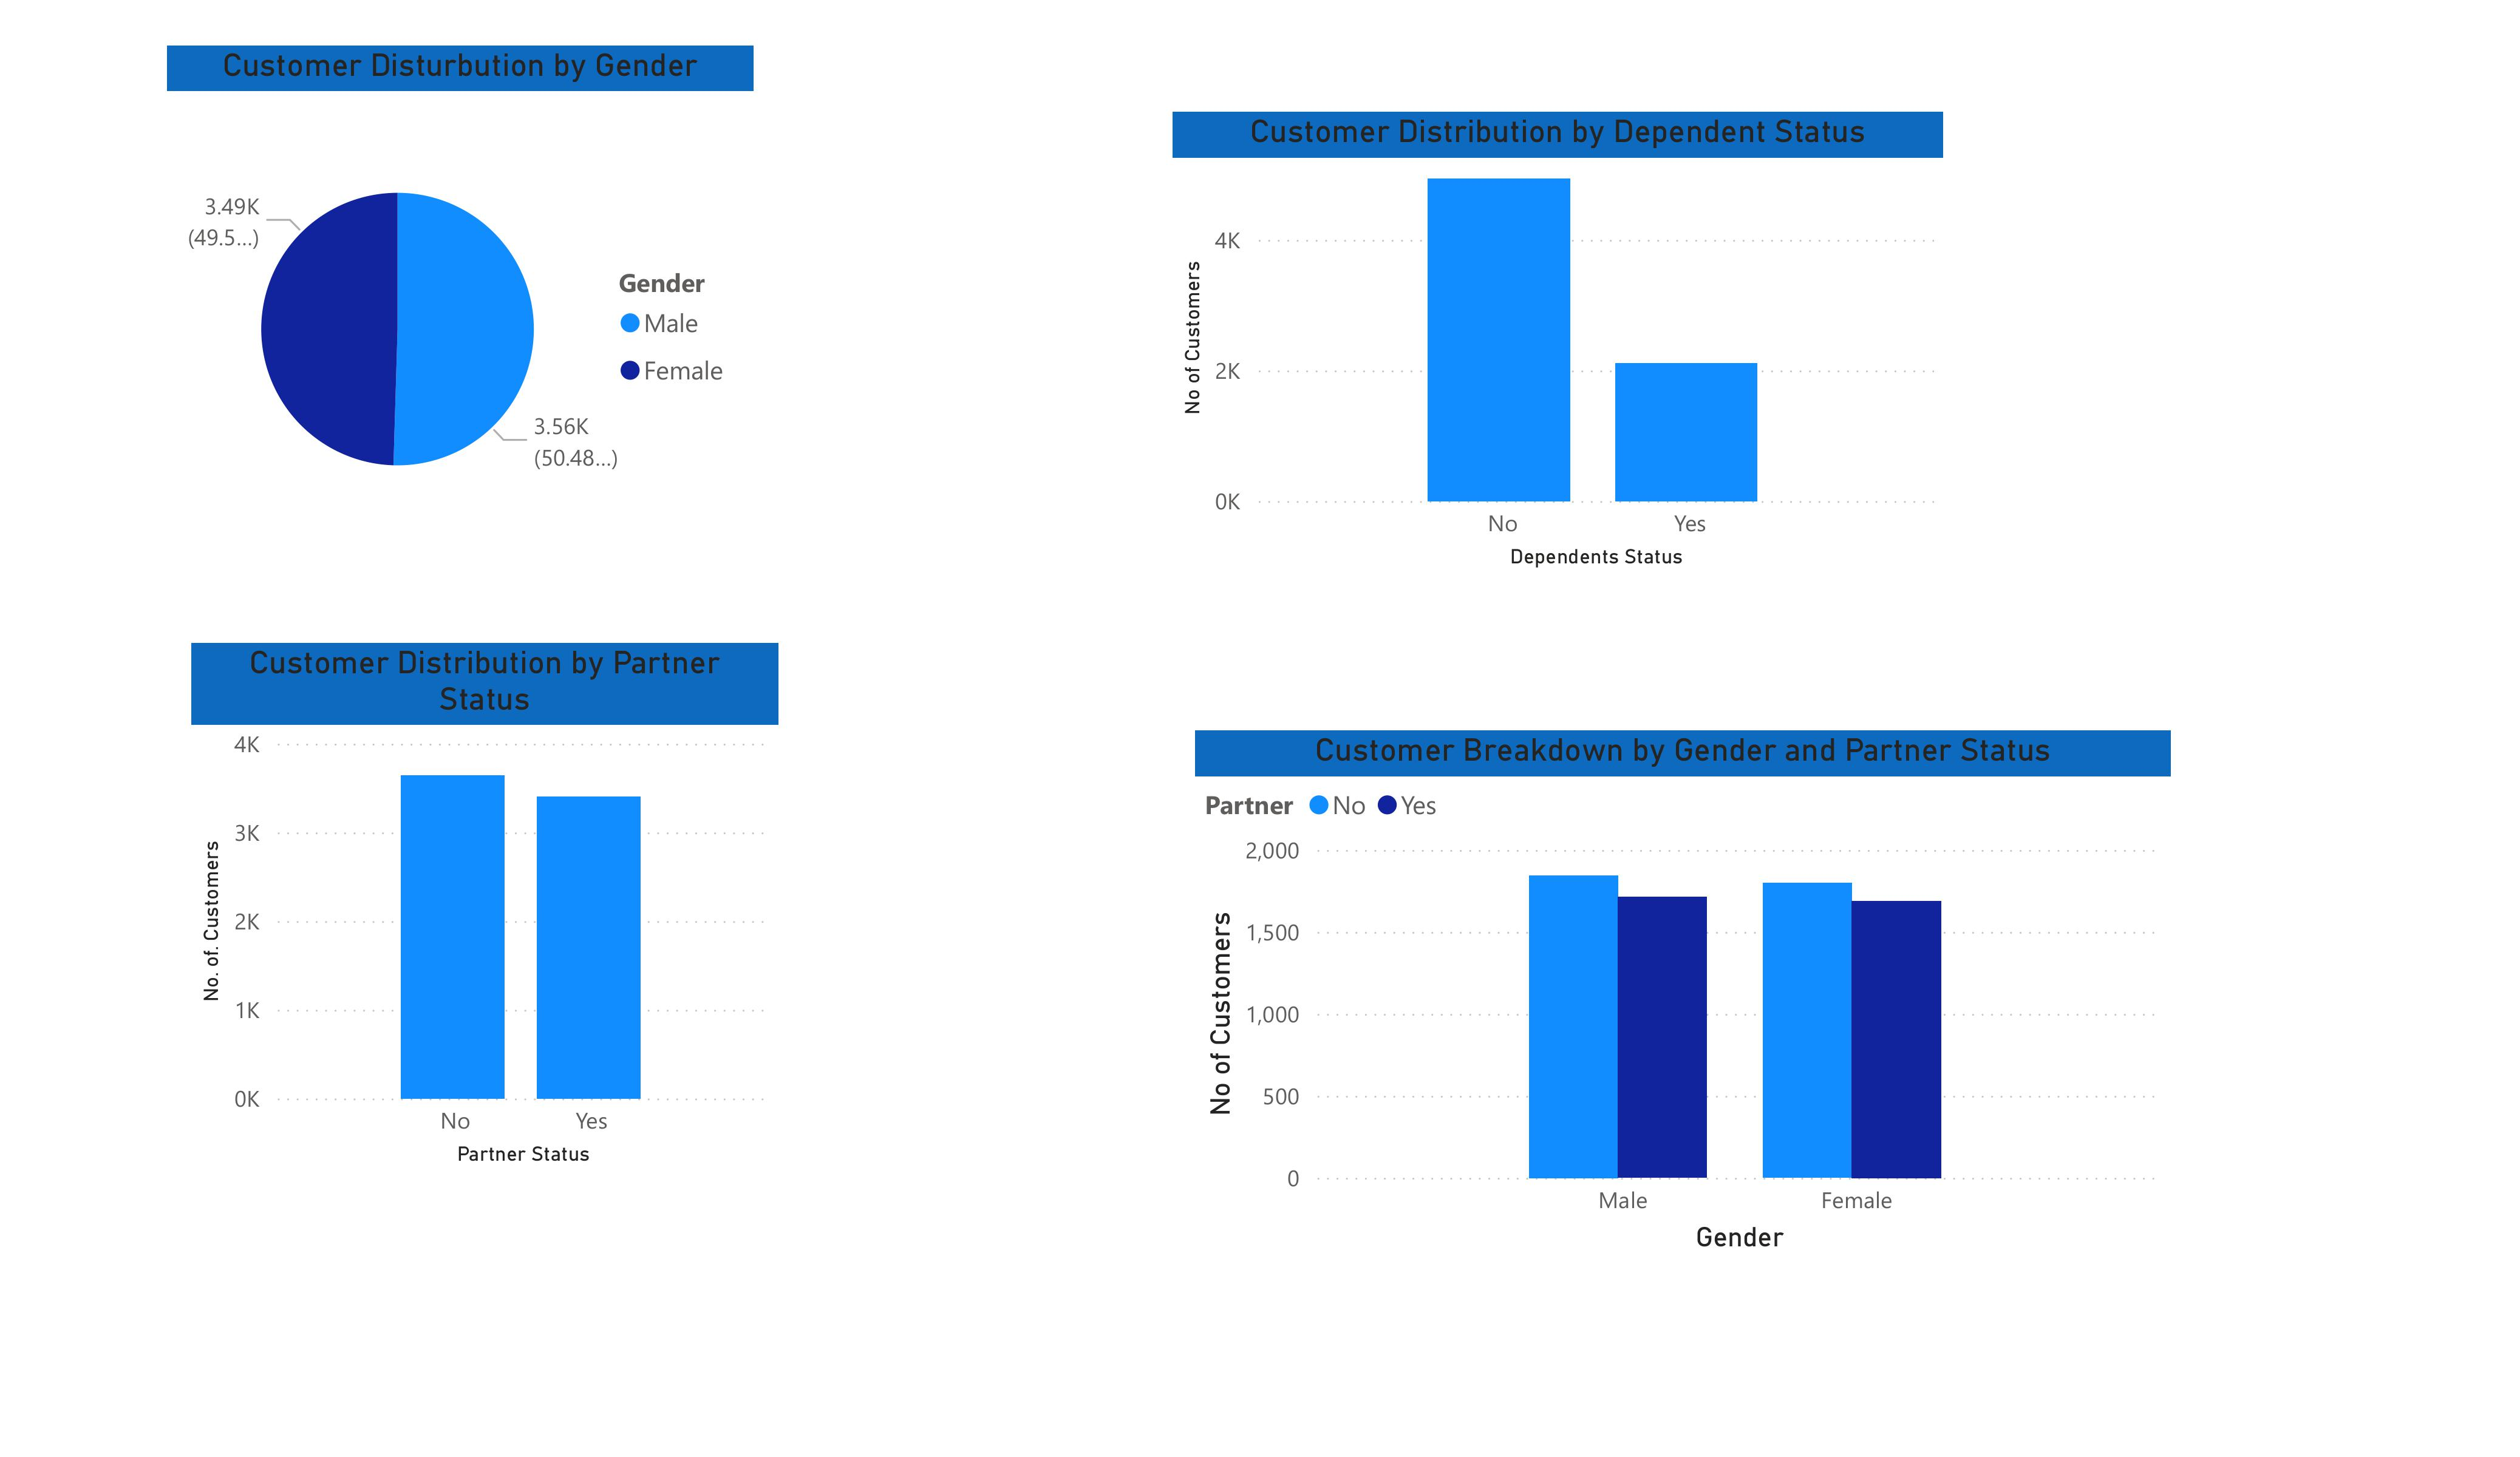

The page's visual inventory and layout, read from the dashboard file:
{"tool":"powerbi","page":{"name":"Task 2","canvas":[1280,720],"ordinal":1},"visuals":[{"type":"pieChart","fields":{"Category":["Telco_Customer_Churn_Dataset  (2).gender"],"Y":["CountNonNull(Telco_Customer_Churn_Dataset  (2).Customer ID)"]},"box":[63.6,0,309.1,280.3],"z":0},{"type":"clusteredColumnChart","title":"Customer Breakdown by Gender and Partner Status","fields":{"Category":["Telco_Customer_Churn_Dataset  (2).gender"],"Y":["CountNonNull(Telco_Customer_Churn_Dataset  (2).Customer ID)"],"Series":["Telco_Customer_Churn_Dataset  (2).Partner"]},"box":[606.1,360.6,513.6,280.3],"z":1000},{"type":"columnChart","title":"Customer Distribution by Partner Status","fields":{"Category":["Telco_Customer_Churn_Dataset  (2).Partner"],"Y":["CountNonNull(Telco_Customer_Churn_Dataset  (2).Customer ID)"]},"box":[77.3,315.2,309.1,280.3],"z":2000},{"type":"columnChart","title":"Customer Distribution by Dependent Status","fields":{"Category":["Telco_Customer_Churn_Dataset  (2).Dependents"],"Y":["CountNonNull(Telco_Customer_Churn_Dataset  (2).Customer ID)"]},"box":[593.9,34.8,406.1,245.5],"z":3000}]}

Visuals, with their boxes in screenshot pixels (x1, y1, x2, y2):
pieChart - Telco_Customer_Churn_Dataset  (2).gender x CountNonNull(Telco_Customer_Churn_Dataset  (2).Customer ID): pyautogui.locateOnScreen(166, 46, 753, 577)
"Customer Breakdown by Gender and Partner Status" clusteredColumnChart: pyautogui.locateOnScreen(1196, 730, 2170, 1262)
"Customer Distribution by Partner Status" columnChart: pyautogui.locateOnScreen(192, 644, 778, 1175)
"Customer Distribution by Dependent Status" columnChart: pyautogui.locateOnScreen(1173, 112, 1943, 577)
